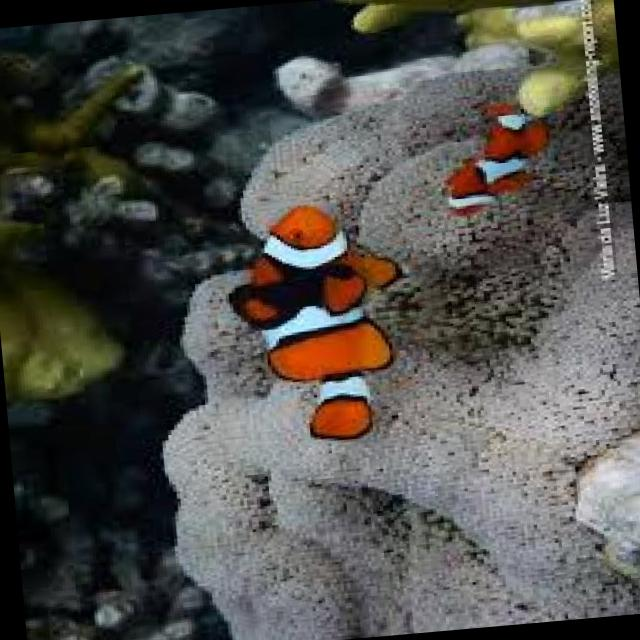ClownFish: (218, 196, 418, 452), (437, 98, 557, 215)
